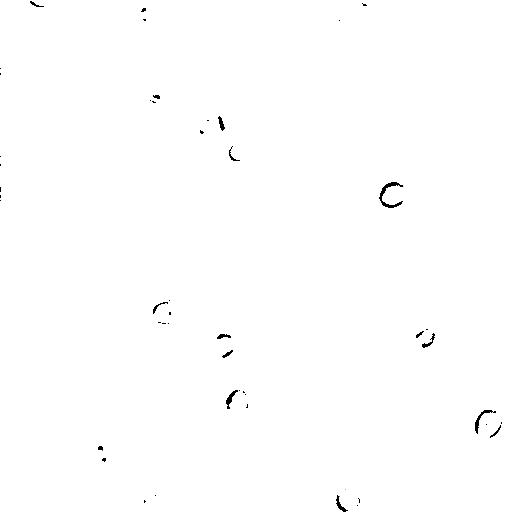micro-algae: (287, 89, 411, 214), (358, 0, 422, 38), (110, 401, 150, 441), (84, 434, 118, 471), (325, 1, 363, 32), (131, 475, 163, 511), (473, 407, 506, 439), (377, 179, 409, 209), (221, 103, 251, 134), (151, 295, 181, 325), (129, 0, 161, 27), (224, 386, 251, 417), (193, 109, 219, 141), (211, 333, 237, 359), (335, 485, 361, 510), (225, 139, 252, 161), (413, 327, 437, 349), (28, 1, 57, 9)
